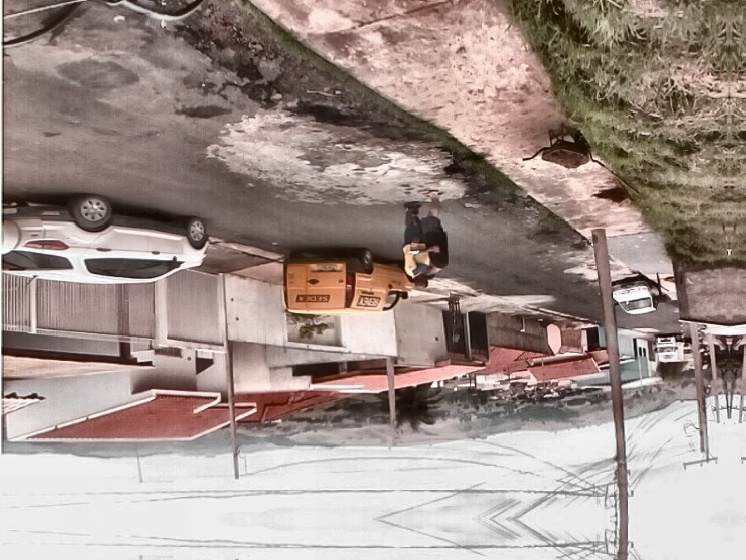person: (413, 189, 450, 280), (402, 201, 435, 290)
